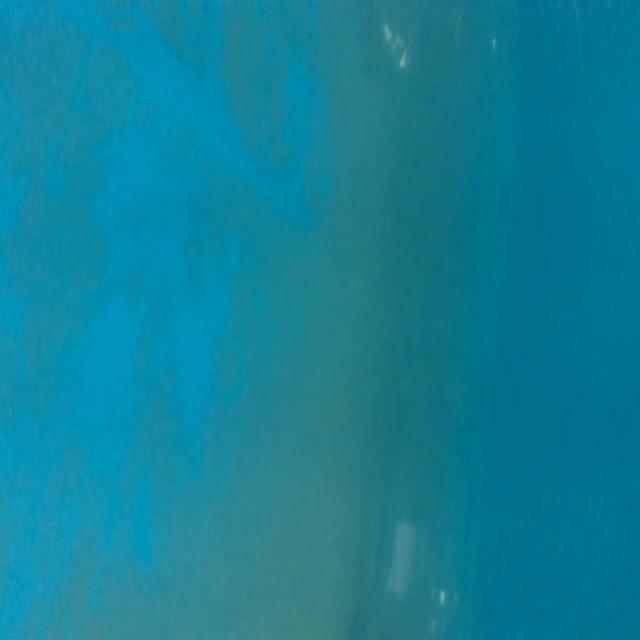plastic bottle: (355, 352, 513, 640)
